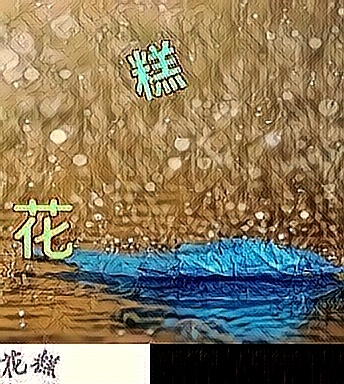B8E2: (125, 37, 188, 104)
BBA8: (9, 194, 72, 261)
